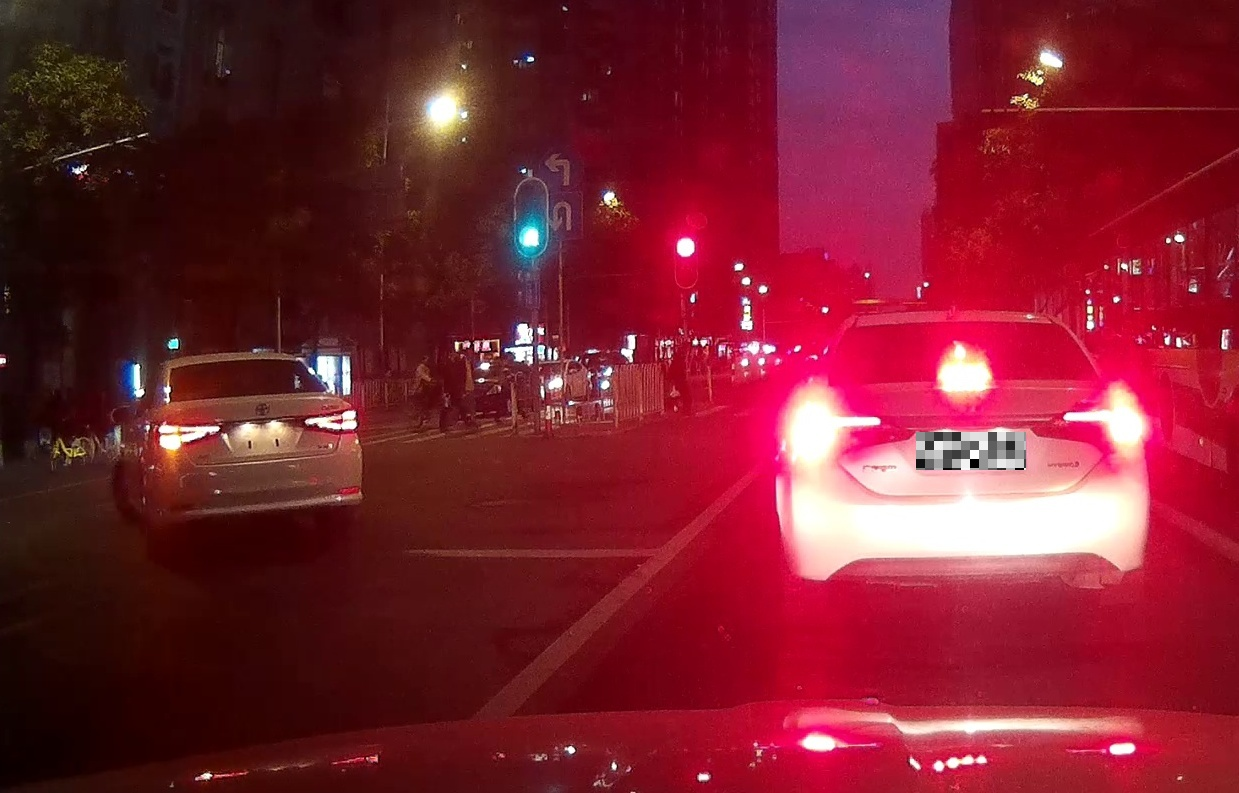L_light: (782, 402, 880, 460), (157, 420, 220, 451)
R_light: (1061, 390, 1146, 448), (303, 408, 360, 432)
T_light: (938, 361, 991, 383), (231, 360, 255, 366)
night-brake: (777, 313, 1149, 608)
night-left: (154, 353, 363, 559)
plate_1: (916, 432, 1026, 470)
